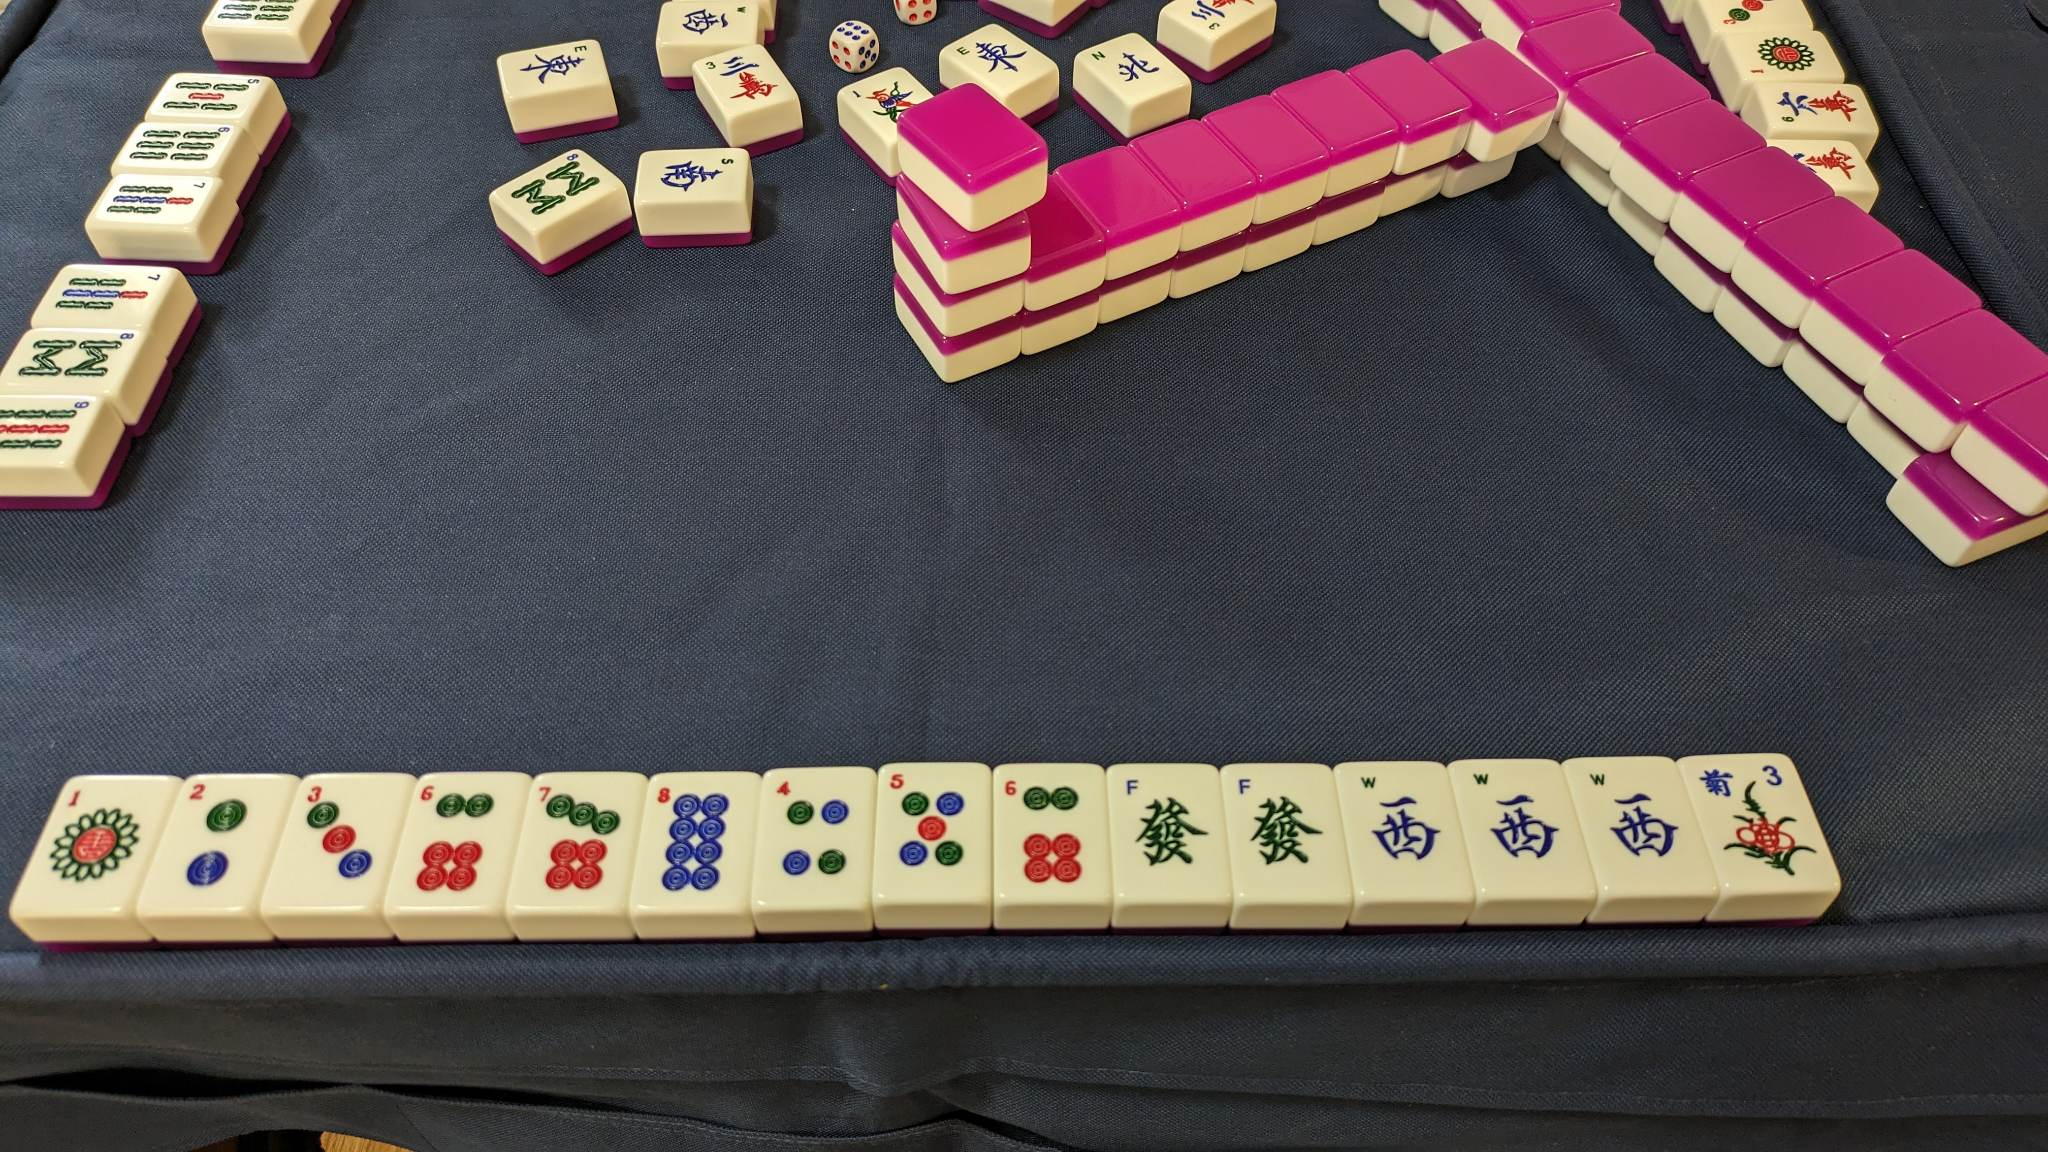circle-eight: (646, 776, 737, 895)
circle-five: (882, 769, 975, 879)
circle-four: (762, 775, 865, 890)
circle-one: (48, 779, 143, 889)
circle-seven: (526, 776, 620, 897)
circle-six: (997, 774, 1101, 890), (411, 778, 497, 903)
circle-three: (295, 775, 378, 886)
circle-two: (172, 775, 257, 895)
flower-blue_three: (1696, 758, 1822, 879)
honor-green_dragon: (1229, 769, 1331, 882), (1115, 772, 1217, 883)
honor-west_wind: (1466, 764, 1568, 871), (1352, 769, 1449, 875), (1582, 767, 1684, 866)
